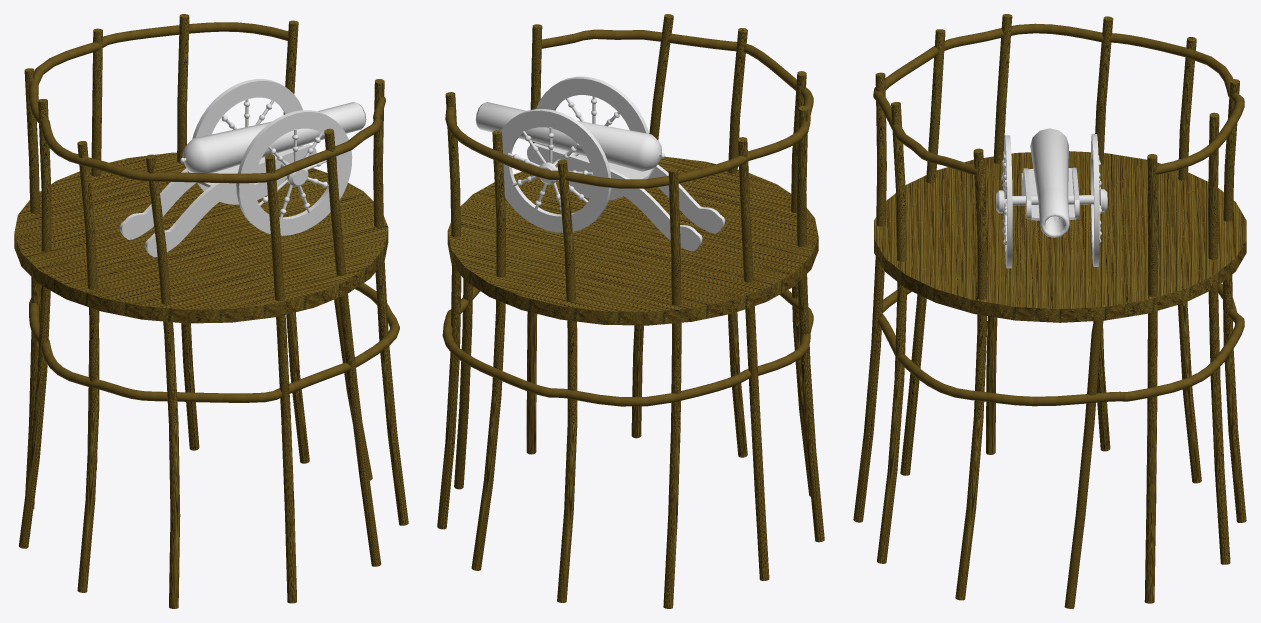
File: tower2.FBX
3 views of the same model, side by side, from view 1: azimuth 30°, elevation 25°; view 2: azimuth 150°, elevation 25°; view 3: azimuth 270°, elevation 25° (orthographic).
Parts seen in each view (by area): view 1: tower003, Tube018, ChamferCyl017, Tube019, Line056, Line055; view 2: tower003, Tube019, ChamferCyl017, Tube018, Line055, Line056; view 3: tower003, ChamferCyl017, Tube019, Tube018, Box063.
Part boxes in pixels (left/top/right/bottom): tower003: left=14, top=14, right=408, bottom=608; Tube018: left=236, top=110, right=352, bottom=235; ChamferCyl017: left=182, top=102, right=366, bottom=173; Tube019: left=192, top=79, right=303, bottom=204; Line056: left=145, top=144, right=316, bottom=257; Line055: left=119, top=168, right=196, bottom=239; tower003: left=437, top=14, right=824, bottom=608; Tube019: left=493, top=109, right=611, bottom=232; ChamferCyl017: left=475, top=102, right=661, bottom=171; Tube018: left=536, top=76, right=649, bottom=200; Line055: left=527, top=143, right=702, bottom=251; Line056: left=647, top=164, right=725, bottom=233; tower003: left=853, top=14, right=1246, bottom=608; ChamferCyl017: left=1030, top=128, right=1069, bottom=237; Tube019: left=1090, top=134, right=1099, bottom=266; Tube018: left=1004, top=135, right=1012, bottom=268; Box063: left=1028, top=168, right=1076, bottom=220.
Bounding box in the file's own units: 965 × 1232 × 971.
